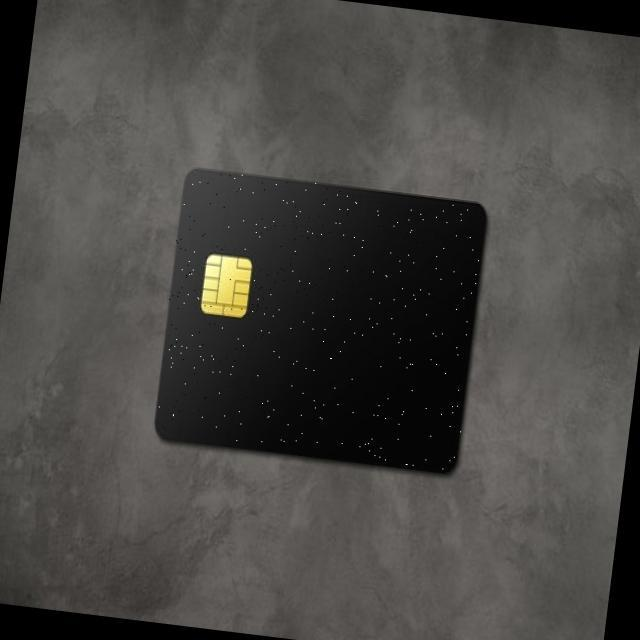payment_card: (153, 166, 488, 475)
